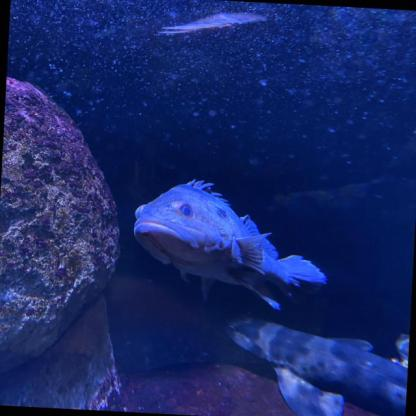fish: (130, 177, 332, 314), (216, 314, 410, 416)
